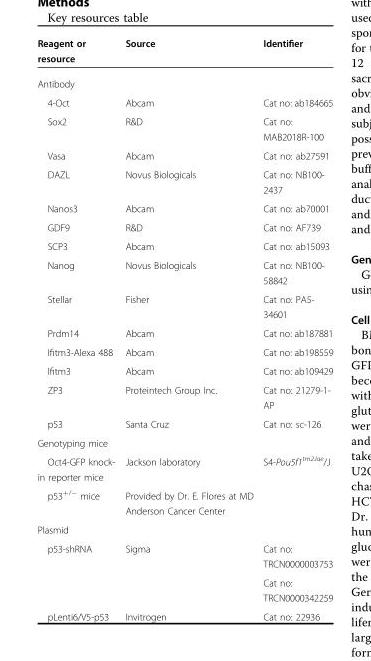table: (36, 37, 332, 622)
table column: (119, 37, 257, 622), (36, 37, 119, 622), (257, 37, 332, 622)
table column header: (36, 37, 332, 70)
table projected row header: (36, 70, 332, 92), (36, 519, 332, 538), (36, 433, 332, 451)
table row: (36, 484, 332, 519), (36, 111, 332, 145), (36, 164, 332, 198), (36, 255, 332, 289), (36, 289, 332, 323), (36, 380, 332, 414), (36, 538, 332, 572), (36, 572, 332, 606), (36, 37, 332, 70), (36, 451, 332, 484), (36, 70, 332, 92), (36, 92, 332, 111), (36, 145, 332, 164), (36, 198, 332, 217), (36, 217, 332, 236), (36, 236, 332, 255), (36, 323, 332, 342), (36, 342, 332, 361), (36, 361, 332, 380), (36, 414, 332, 433), (36, 519, 332, 538), (36, 433, 332, 451), (36, 606, 332, 622)
table spanning cell: (36, 538, 119, 606)
